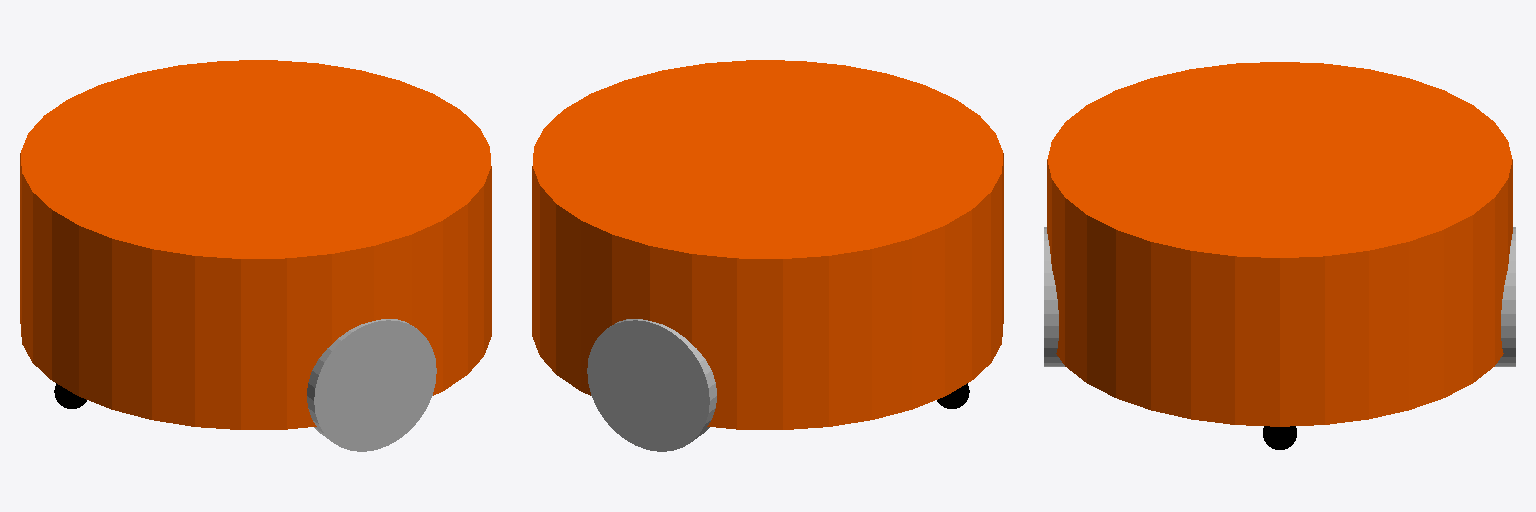
URDF robot description (mbot):
<?xml version="1.0" encoding="utf-8"?>
<!-- =================================================================================== -->
<!-- |    This document was autogenerated by xacro from mbot.xacro                     | -->
<!-- |    EDITING THIS FILE BY HAND IS NOT RECOMMENDED                                 | -->
<!-- =================================================================================== -->
<robot name="mbot">
  <!-- Defining the colors used in this robot -->
  <material name="yellow">
    <color rgba="1 0.4 0 1"/>
  </material>
  <material name="black">
    <color rgba="0 0 0 0.95"/>
  </material>
  <material name="gray">
    <color rgba="0.75 0.75 0.75 1"/>
  </material>
  <link name="base_footprint">
    <visual>
      <origin rpy="0 0 0" xyz="0 0 0"/>
      <geometry>
        <box size="0.001 0.001 0.001"/>
      </geometry>
    </visual>
  </link>
  <joint name="base_footprint_joint" type="fixed">
    <origin rpy="0 0 0" xyz="0 0 0.11"/>
    <parent link="base_footprint"/>
    <child link="base_link"/>
  </joint>
  <!-- It does not correspond to the real physical entity of the robot, 
        but rather serves as a reference point that helps define the robot's coordinate system 
        and is part of the robot navigation framework -->
  <link name="base_link">
    <visual>
      <origin rpy="0 0 0" xyz=" 0 0 0"/>
      <geometry>
        <cylinder length="0.16" radius="0.2"/>
      </geometry>
      <material name="yellow"/>
    </visual>
  </link>
  <joint name="left_wheel_joint" type="continuous">
    <origin rpy="0 0 0" xyz="0 0.19 -0.05"/>
    <parent link="base_link"/>
    <child link="left_wheel_link"/>
    <axis xyz="0 1 0"/>
  </joint>
  <link name="left_wheel_link">
    <visual>
      <origin rpy="1.5707963 0 0" xyz="0 0 0"/>
      <geometry>
        <cylinder length="0.025" radius="0.06"/>
      </geometry>
      <material name="gray"/>
    </visual>
  </link>
  <joint name="right_wheel_joint" type="continuous">
    <origin rpy="0 0 0" xyz="0 -0.19 -0.05"/>
    <parent link="base_link"/>
    <child link="right_wheel_link"/>
    <axis xyz="0 1 0"/>
  </joint>
  <link name="right_wheel_link">
    <visual>
      <origin rpy="1.5707963 0 0" xyz="0 0 0"/>
      <geometry>
        <cylinder length="0.025" radius="0.06"/>
      </geometry>
      <material name="gray"/>
    </visual>
  </link>
  <joint name="front_caster_joint" type="continuous">
    <origin rpy="0 0 0" xyz="0.18 0 -0.095"/>
    <parent link="base_link"/>
    <child link="front_caster_link"/>
    <axis xyz="0 1 0"/>
  </joint>
  <link name="front_caster_link">
    <visual>
      <origin rpy="0 0 0" xyz="0 0 0"/>
      <geometry>
        <sphere radius="0.015"/>
      </geometry>
      <material name="black"/>
    </visual>
  </link>
  <joint name="back_caster_joint" type="continuous">
    <origin rpy="0 0 0" xyz="-0.18 0 -0.095"/>
    <parent link="base_link"/>
    <child link="back_caster_link"/>
    <axis xyz="0 1 0"/>
  </joint>
  <link name="back_caster_link">
    <visual>
      <origin rpy="0 0 0" xyz="0 0 0"/>
      <geometry>
        <sphere radius="0.015"/>
      </geometry>
      <material name="black"/>
    </visual>
  </link>
</robot>

--- What the picture shows (computed from the rendered views, not written in the file) ---
3 views of the same robot in one strip: view 1: azimuth 30°, elevation 25°; view 2: azimuth 150°, elevation 25°; view 3: azimuth 270°, elevation 25° (orthographic).
Robot: mbot — 6 links, 5 joints (4 continuous, 1 fixed); root link base_footprint; default pose: every joint at zero.
Visible links, largest first — view 1: base_link, right_wheel_link; view 2: base_link, left_wheel_link; view 3: base_link, left_wheel_link, right_wheel_link, front_caster_link.
Link boxes in pixels (x1=…): base_link: x1=20, y1=60, x2=491, y2=429; right_wheel_link: x1=307, y1=319, x2=436, y2=451; base_link: x1=532, y1=60, x2=1003, y2=429; left_wheel_link: x1=587, y1=319, x2=716, y2=451; base_link: x1=1047, y1=62, x2=1512, y2=426; left_wheel_link: x1=1495, y1=227, x2=1515, y2=366; right_wheel_link: x1=1044, y1=227, x2=1064, y2=366; front_caster_link: x1=1263, y1=426, x2=1296, y2=449.
Size in the robot's own frame: 0.4 by 0.405 by 0.1905 metres.
Geometry: primitives only (box / cylinder / sphere), no mesh files.